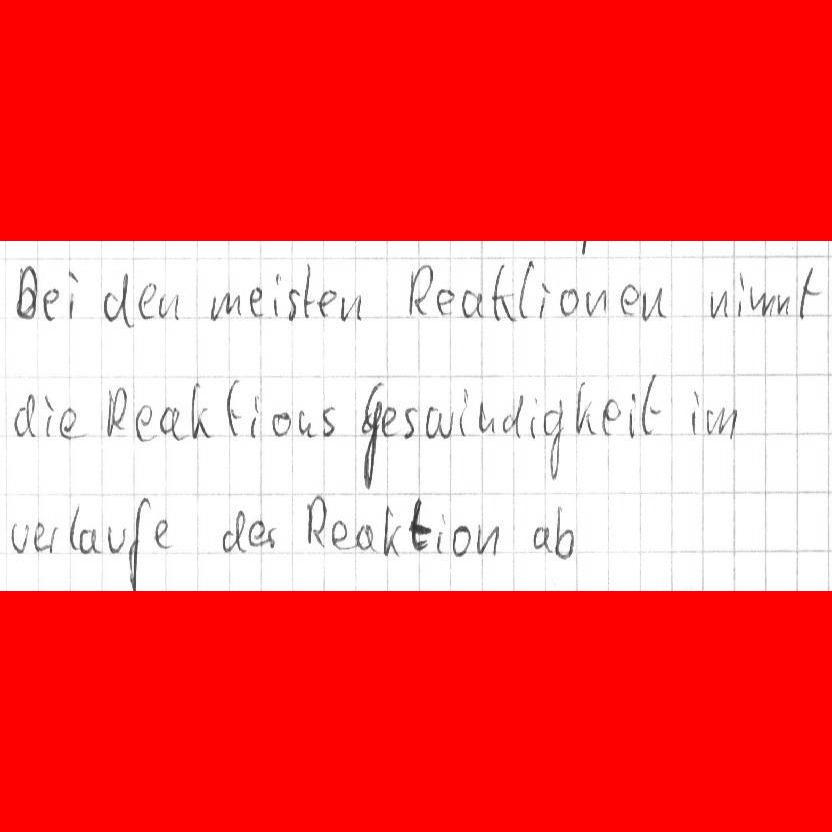Char: (358, 382, 383, 491), (128, 497, 152, 585), (102, 271, 129, 327), (546, 403, 564, 484), (407, 262, 432, 320), (796, 266, 821, 320), (103, 385, 128, 439), (190, 380, 212, 441), (13, 263, 36, 321), (220, 507, 246, 556), (642, 370, 661, 436), (500, 390, 526, 438), (11, 391, 36, 439), (408, 497, 430, 551), (516, 256, 534, 322), (552, 504, 573, 560), (305, 493, 326, 548), (380, 503, 401, 557), (491, 260, 509, 323), (574, 380, 594, 436), (224, 377, 242, 438), (209, 289, 241, 323), (640, 283, 666, 321), (474, 520, 499, 558), (424, 404, 449, 441), (159, 403, 184, 440), (600, 397, 621, 438), (65, 267, 80, 322), (136, 281, 156, 321), (460, 285, 483, 319), (8, 518, 29, 555), (135, 403, 154, 443), (582, 286, 606, 317), (41, 285, 60, 324), (617, 282, 638, 317), (315, 285, 336, 320), (300, 263, 313, 318), (157, 290, 179, 322), (339, 292, 361, 324), (104, 523, 125, 556), (41, 394, 56, 440), (557, 284, 577, 317), (354, 522, 376, 552), (58, 407, 79, 438), (451, 524, 470, 558), (708, 288, 727, 322), (249, 519, 269, 551), (79, 526, 101, 555), (627, 389, 640, 438), (435, 285, 455, 316), (247, 395, 261, 439), (31, 519, 48, 555), (721, 406, 739, 439), (153, 518, 172, 549), (380, 406, 399, 437), (401, 406, 418, 440), (330, 520, 349, 550), (532, 523, 551, 553), (269, 410, 290, 437), (690, 387, 702, 434), (69, 502, 80, 552), (435, 514, 448, 556), (320, 406, 337, 438), (477, 402, 494, 434), (248, 285, 265, 317), (732, 272, 744, 317), (295, 410, 314, 438), (748, 287, 767, 315), (539, 278, 552, 318), (271, 272, 282, 318), (768, 292, 790, 315), (284, 287, 298, 323), (460, 386, 470, 435), (704, 405, 720, 435), (528, 397, 539, 438), (47, 524, 59, 554), (575, 239, 591, 257)
